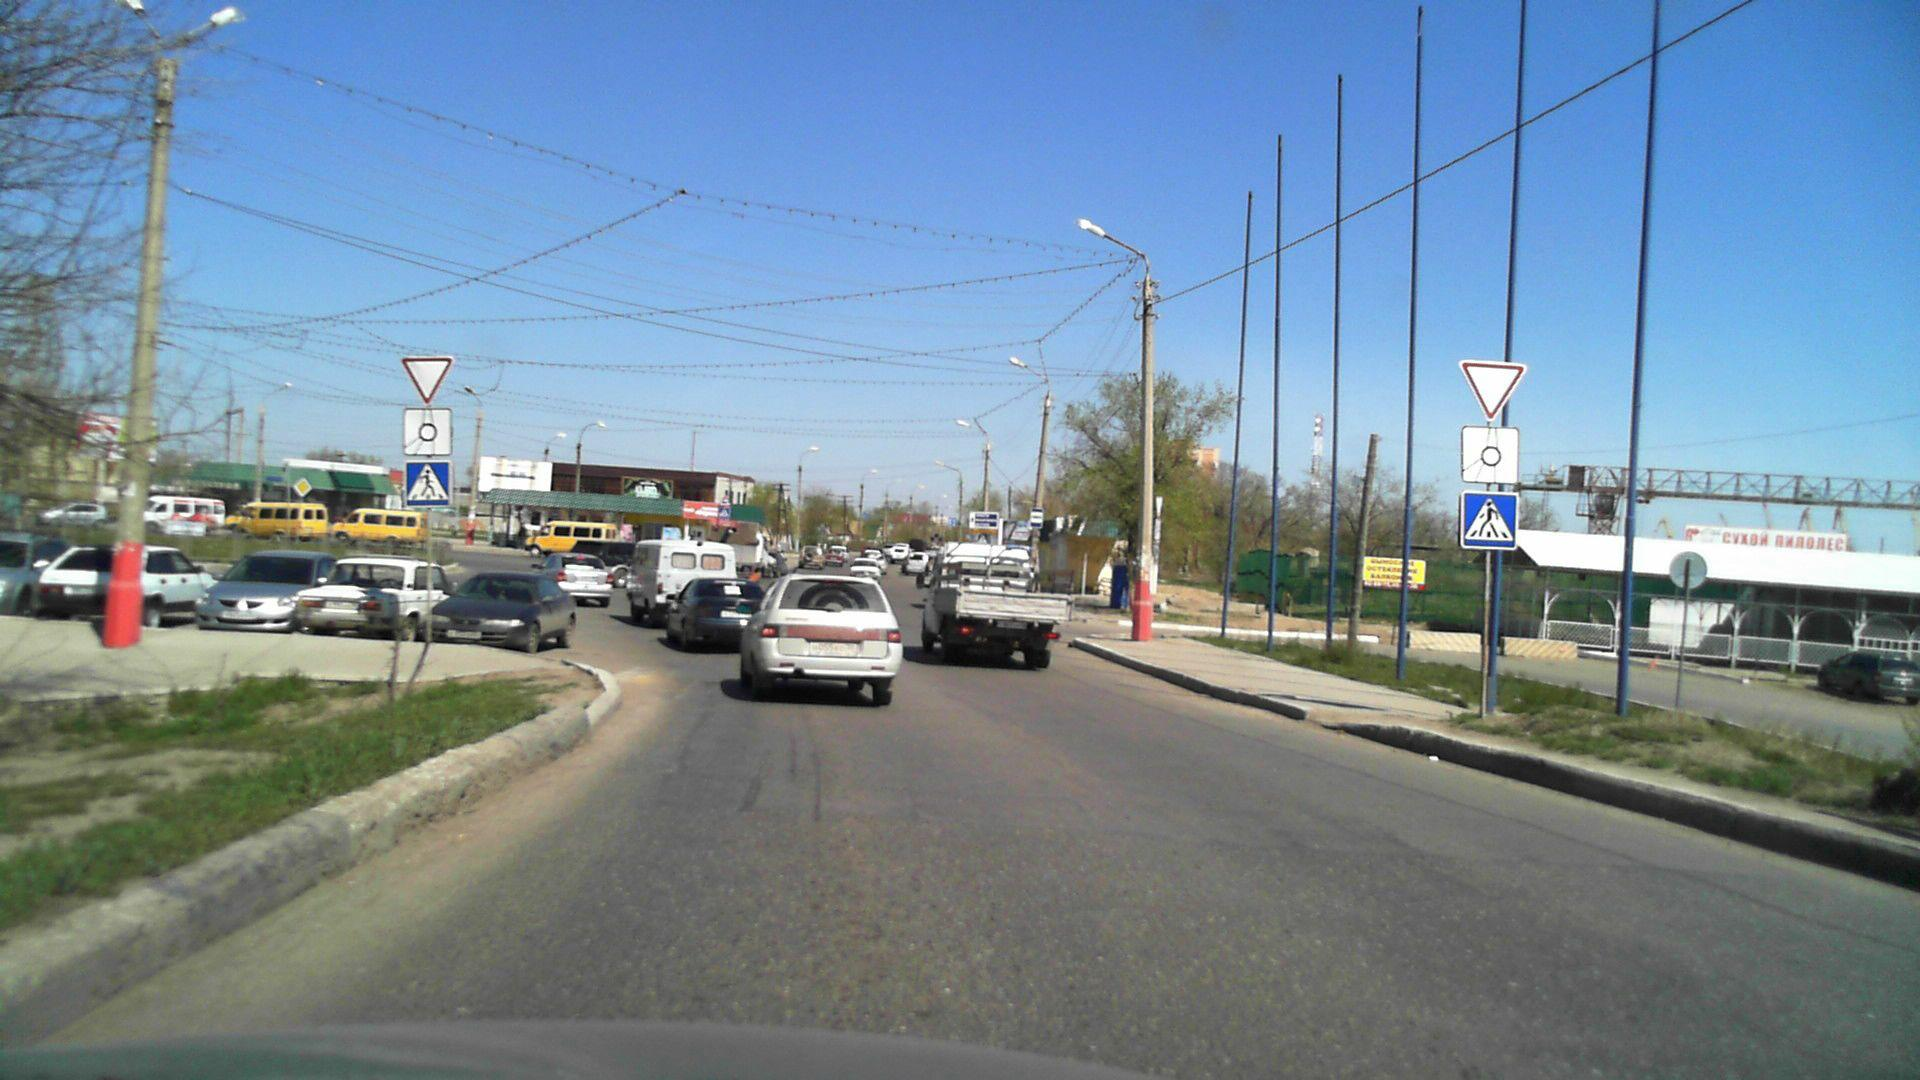2_4: (1459, 357, 1527, 419), (404, 356, 455, 403)
5_16: (1030, 508, 1045, 527)
5_19_1: (1461, 491, 1518, 549)
5_19_2: (406, 461, 451, 506)
6_10_1: (968, 510, 999, 530)
8_13: (1459, 427, 1520, 488), (404, 408, 451, 454)
